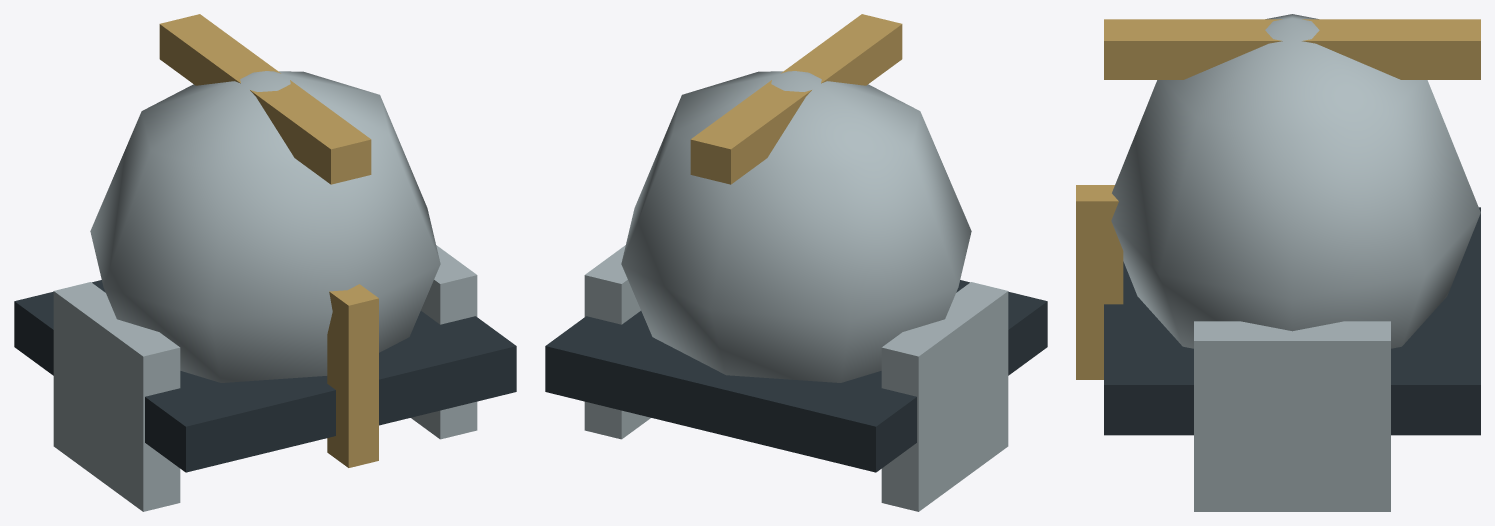
File: fixed-helm-lod1.glb
The picture shows the model from 3 angles, left to right: view 1: azimuth 30°, elevation 25°; view 2: azimuth 150°, elevation 25°; view 3: azimuth 270°, elevation 25°; orthographic projection. The views are drawn at different scales.
Parts seen in each view (by area): view 1: piece_whole; view 2: piece_whole; view 3: piece_whole.
Boxes of the visible parts, x1=… form: piece_whole: x1=14, y1=14, x2=516, y2=511; piece_whole: x1=545, y1=14, x2=1047, y2=511; piece_whole: x1=1076, y1=14, x2=1480, y2=511.
Bounding box in the file's own units: 0.495 × 0.52 × 0.4725.
